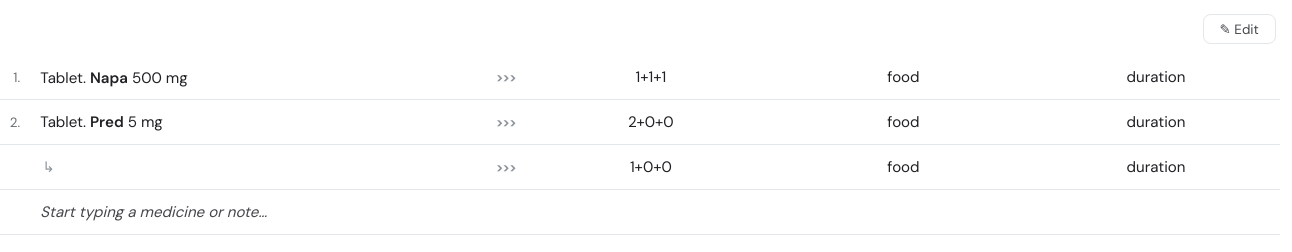
MedicinePad — moving lines › shows ▲ / ▼ only while ✎ Edit is on
Click the button "✎ Edit" at (1239, 29), box x1=1203 y1=14 x2=1276 y2=44
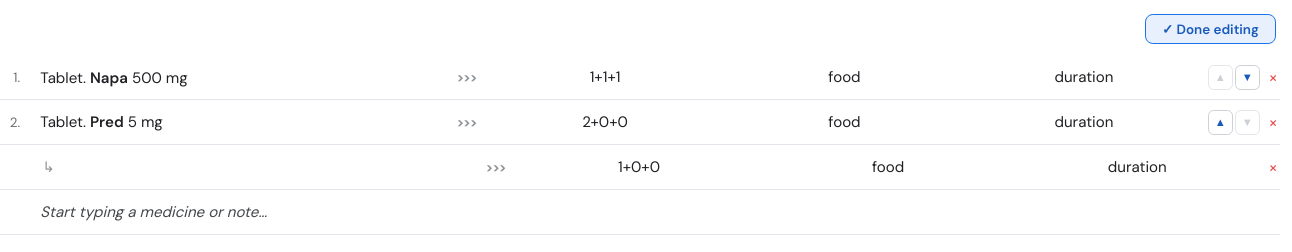
Result: the number of buttons named "Move this line up" is 2 at x1=1208 y1=65 x2=1233 y2=90; x1=1208 y1=110 x2=1233 y2=135
